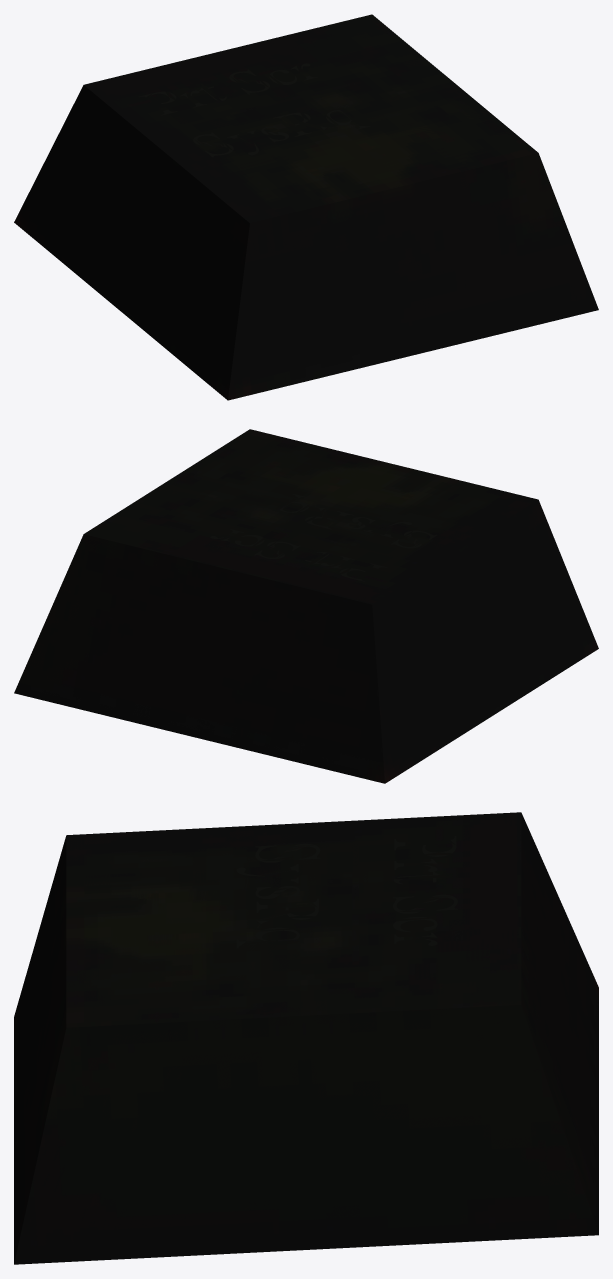
The model's file is link_99__key-105.glb.
3 views of the same model, one above another, from view 1: azimuth 30°, elevation 25°; view 2: azimuth 150°, elevation 25°; view 3: azimuth 270°, elevation 25° (orthographic). The views are drawn at different scales.
Visible parts, largest first — view 1: world; view 2: world; view 3: world.
Part boxes in pixels (bbox=[...]): world: bbox=[14, 14, 598, 400]; world: bbox=[14, 429, 598, 783]; world: bbox=[14, 812, 598, 1264].
Size of the model in its own units: 0.0719 by 0.0315 by 0.0718.
Materials: 1 (1 with a texture image).
